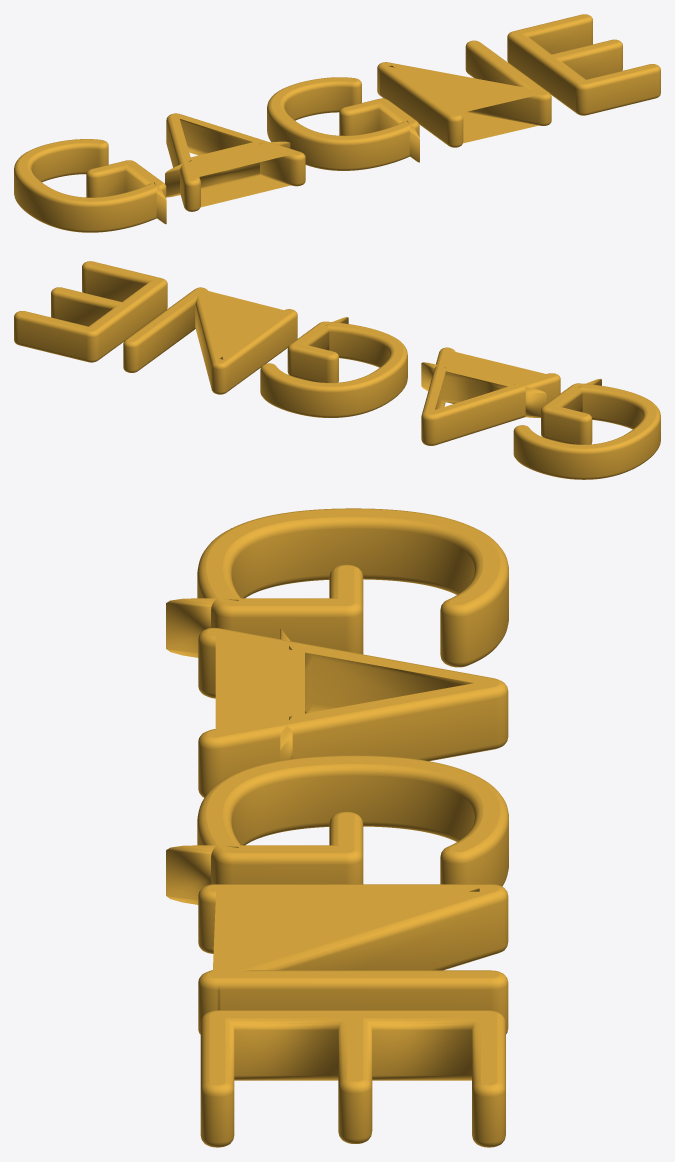
Rendered from title_win.fbx.
3 renders of one model, top to bottom at view 1: azimuth 30°, elevation 25°; view 2: azimuth 150°, elevation 25°; view 3: azimuth 270°, elevation 25°, orthographic. The views are drawn at different scales.
Visible parts, largest first — view 1: Extruded clay lettering; view 2: Extruded clay lettering; view 3: Extruded clay lettering.
Part boxes in pixels (left/top/right/bottom): Extruded clay lettering: left=14, top=14, right=660, bottom=232; Extruded clay lettering: left=14, top=261, right=660, bottom=479; Extruded clay lettering: left=166, top=508, right=508, bottom=1147.
Bounding box in the file's own units: 3.86 × 0.19 × 0.9606.
